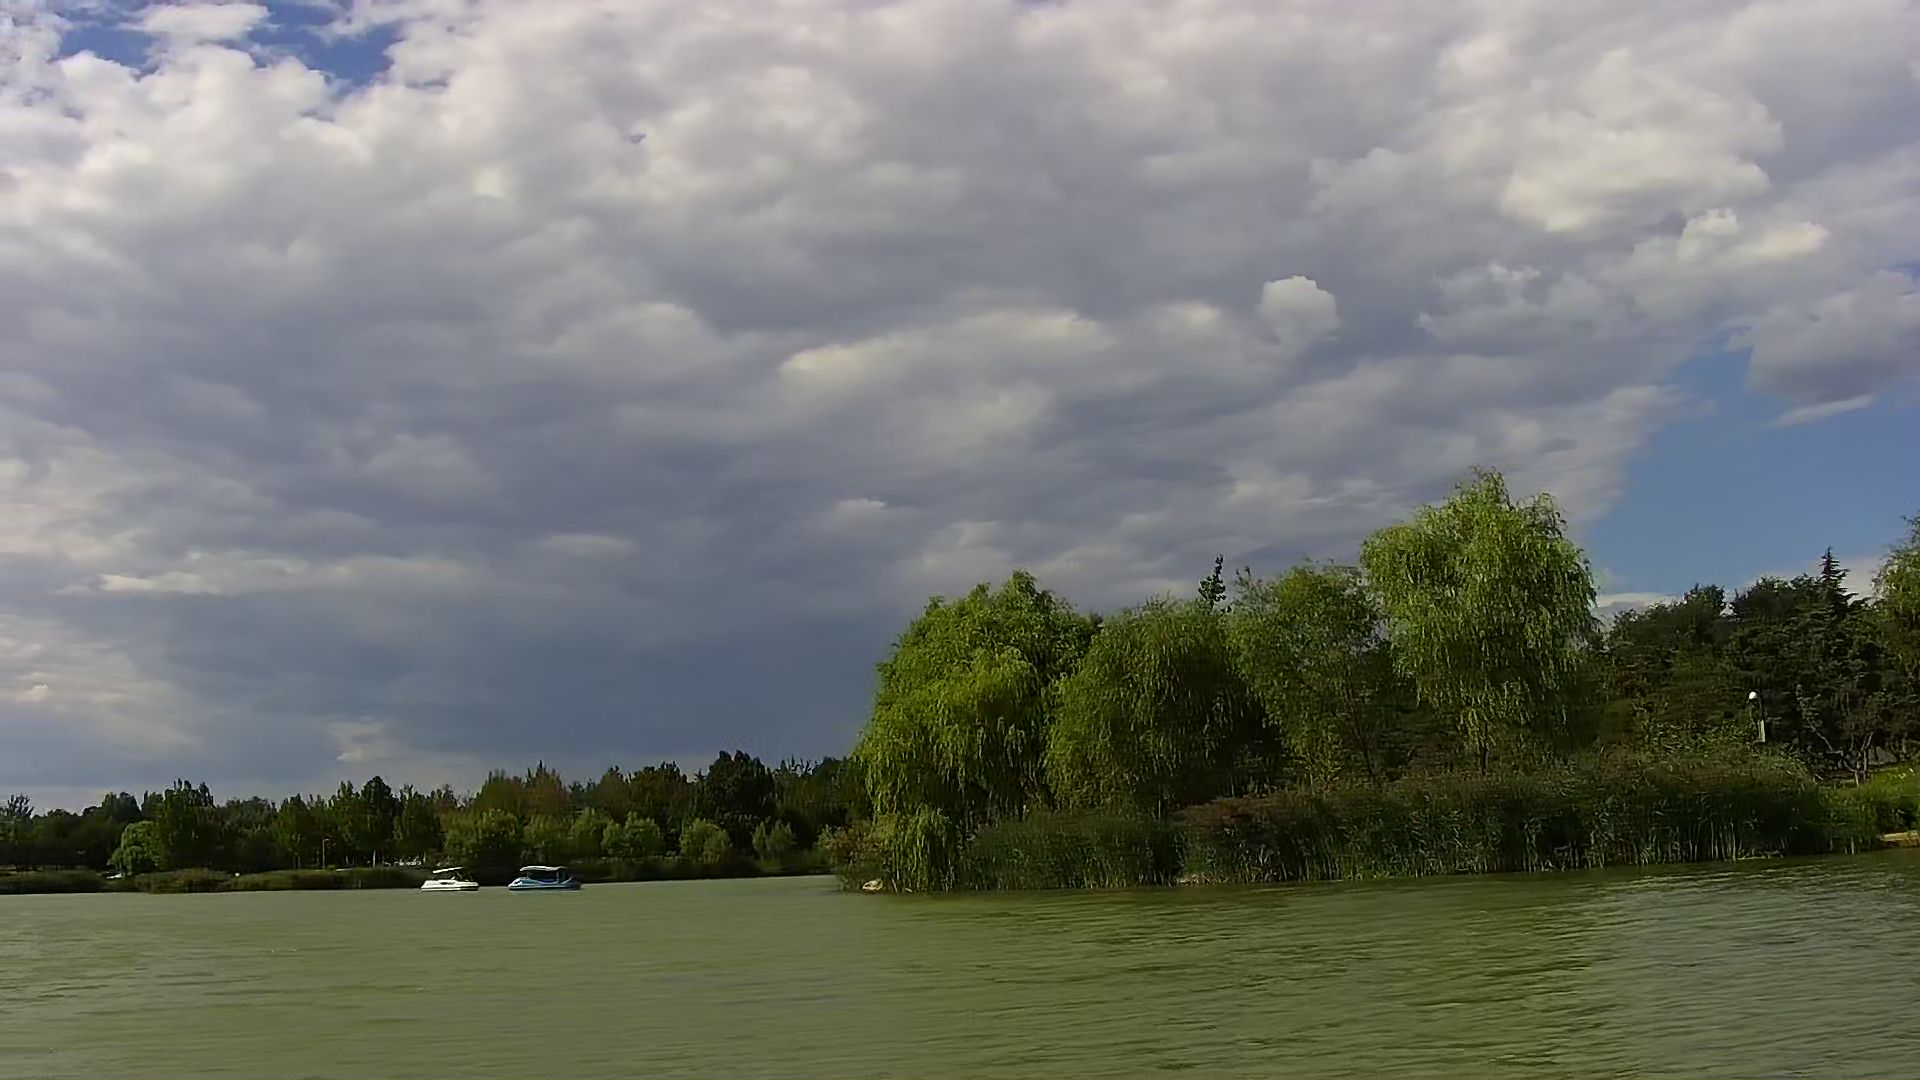boat: (500, 861, 583, 894), (415, 865, 481, 898)
rock: (858, 873, 885, 894)
